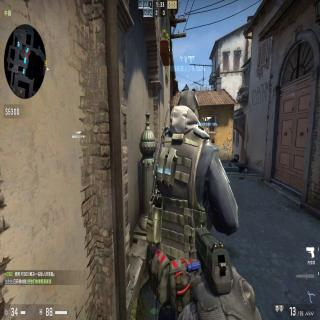CT-Head: (174, 90, 200, 124)
